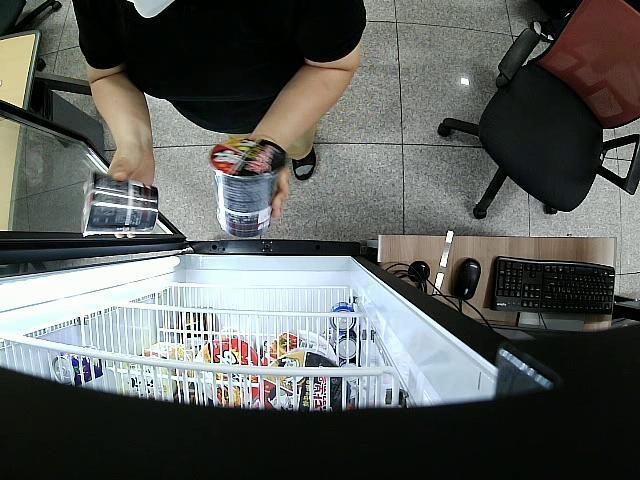08_buldak_S: (210, 142, 287, 238), (81, 176, 160, 238)
